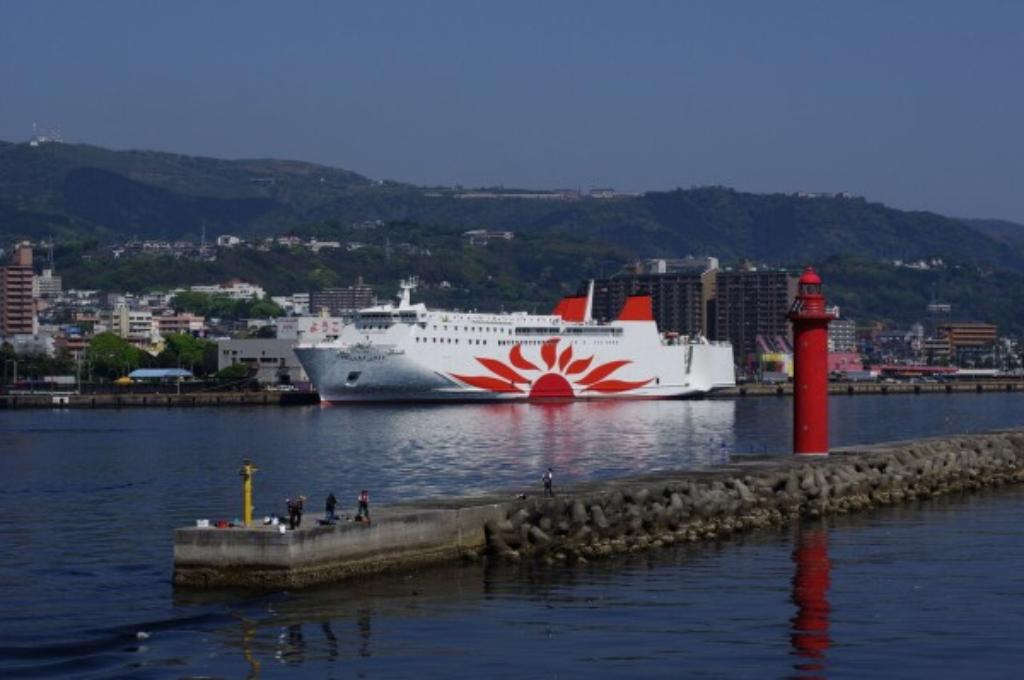PassengerShip: (288, 285, 744, 408)
